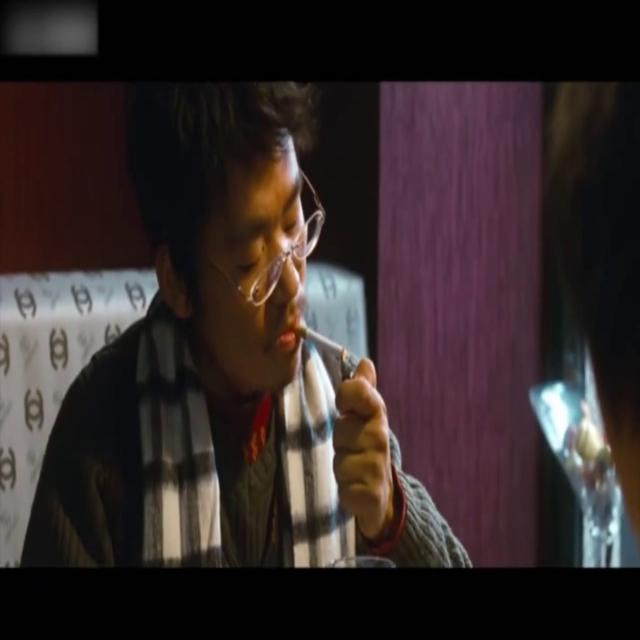smoking: (292, 321, 344, 359)
